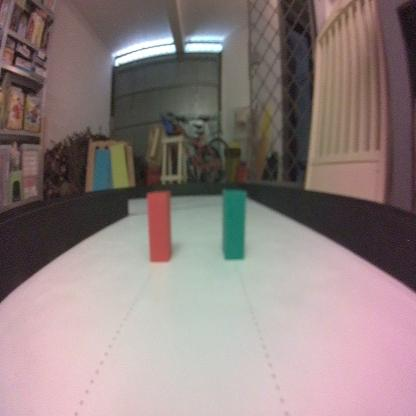green: (220, 187, 246, 262)
red: (147, 189, 173, 263)
